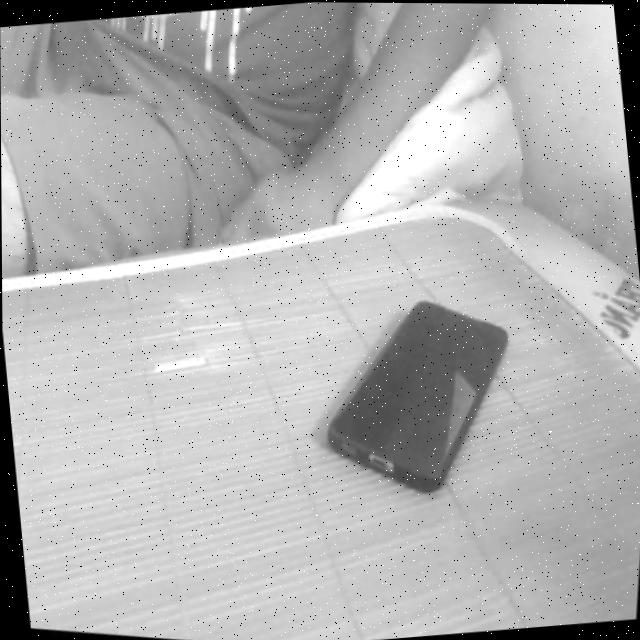phone: (282, 260, 546, 535)
